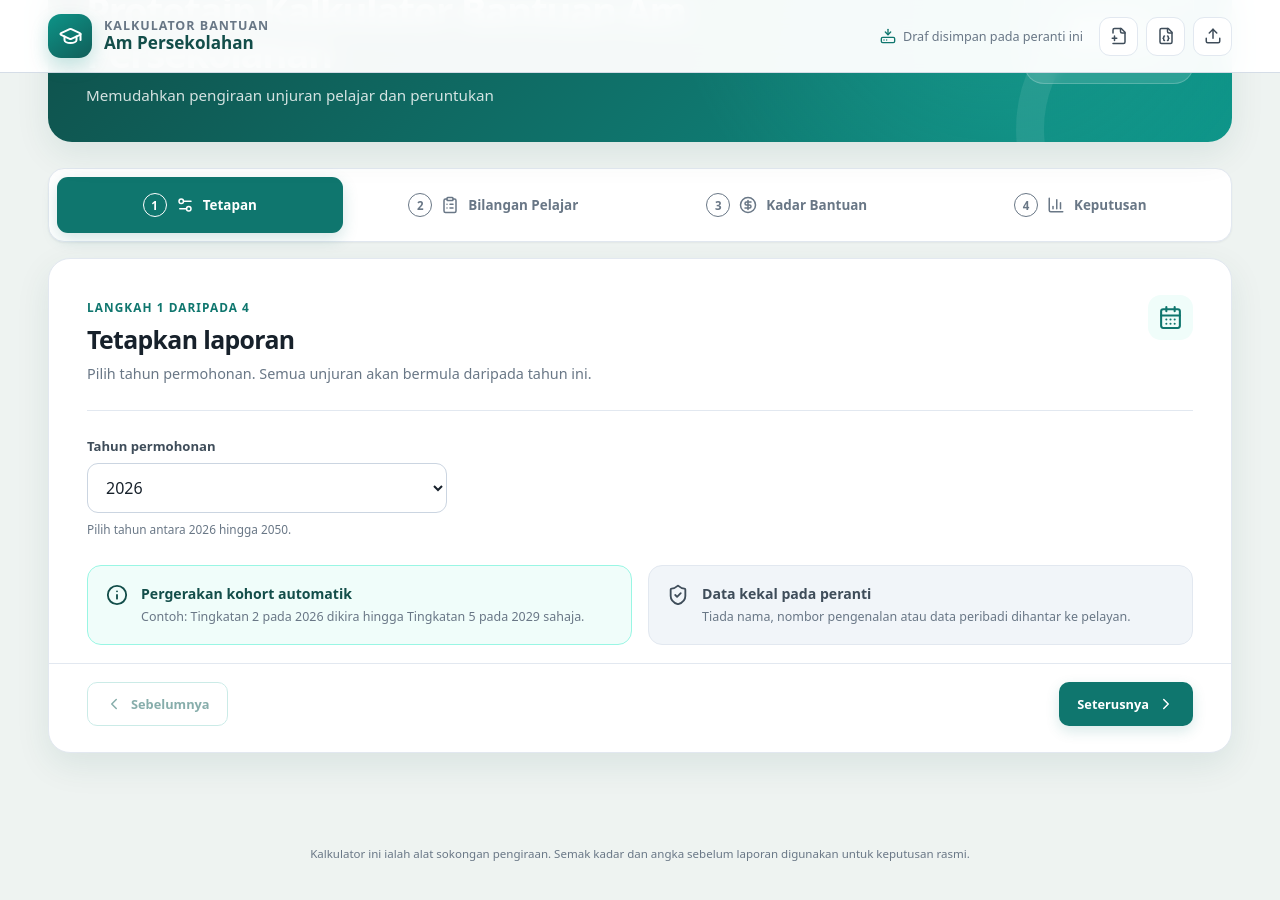
App › guides the user through the four calculator steps
(page scrolled)
Expected: the text "Memudahkan pengiraan unjuran pelajar dan peruntukan" is shown, [86,85,494,105]
Expected: the heading "Tetapkan laporan" is shown, [87,322,294,356]
Click the button "Seterusnya" at x=1126, y=704, box [1059,682,1193,726]
(page scrolled)
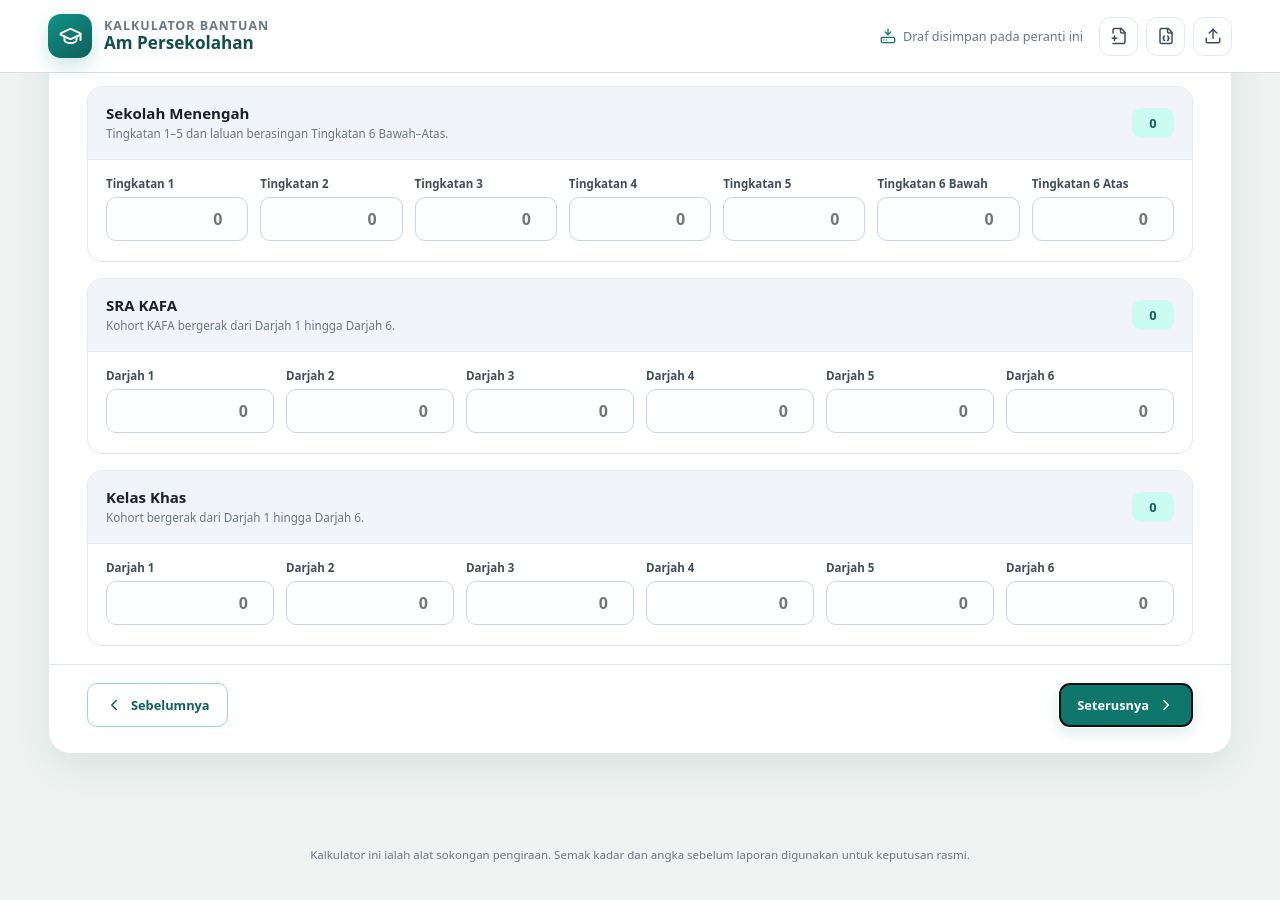
Click the button "Seterusnya" at x=1126, y=705, box [1059,683,1193,727]
(page scrolled)
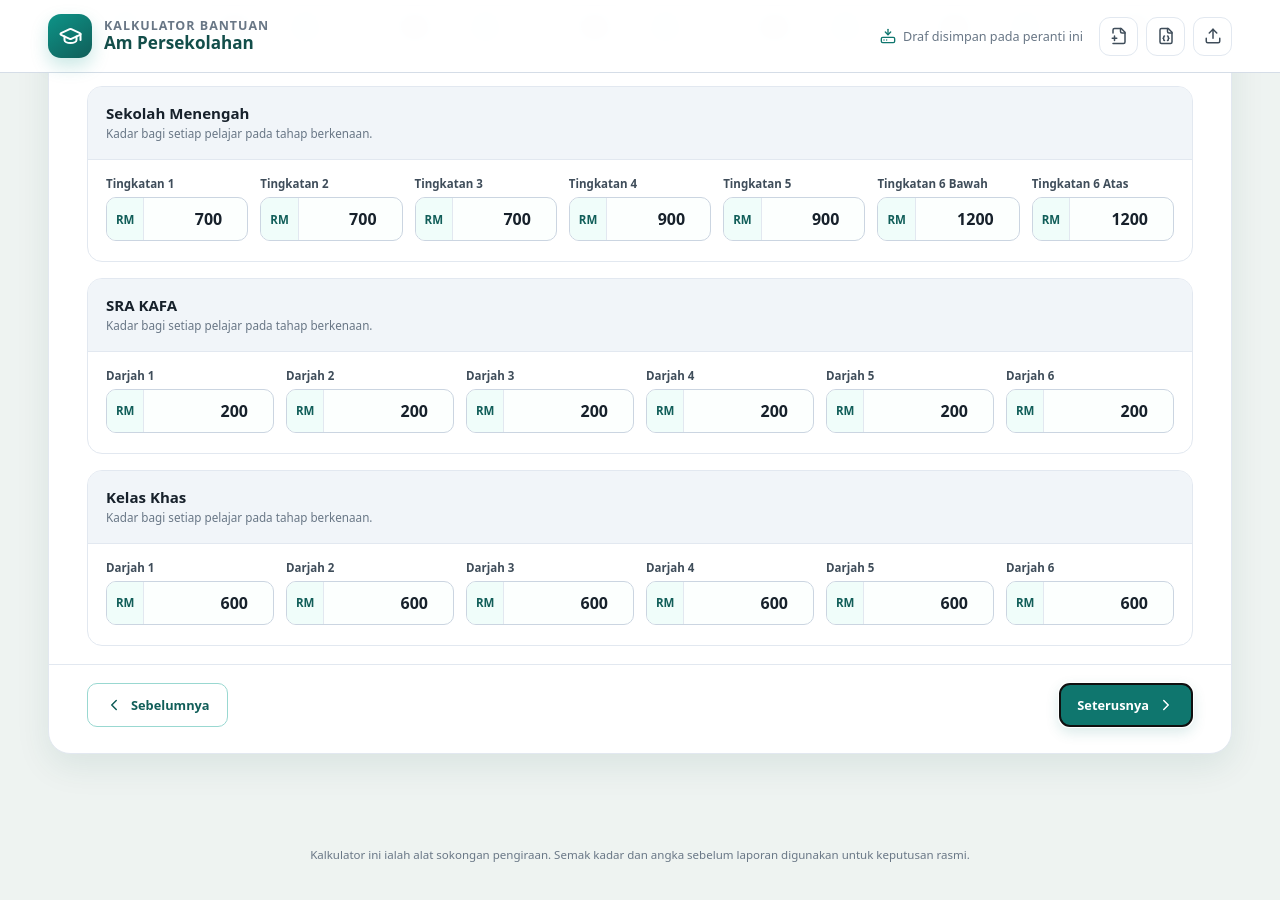
Click the button "Seterusnya" at x=1126, y=705, box [1059,683,1193,727]
(page scrolled)
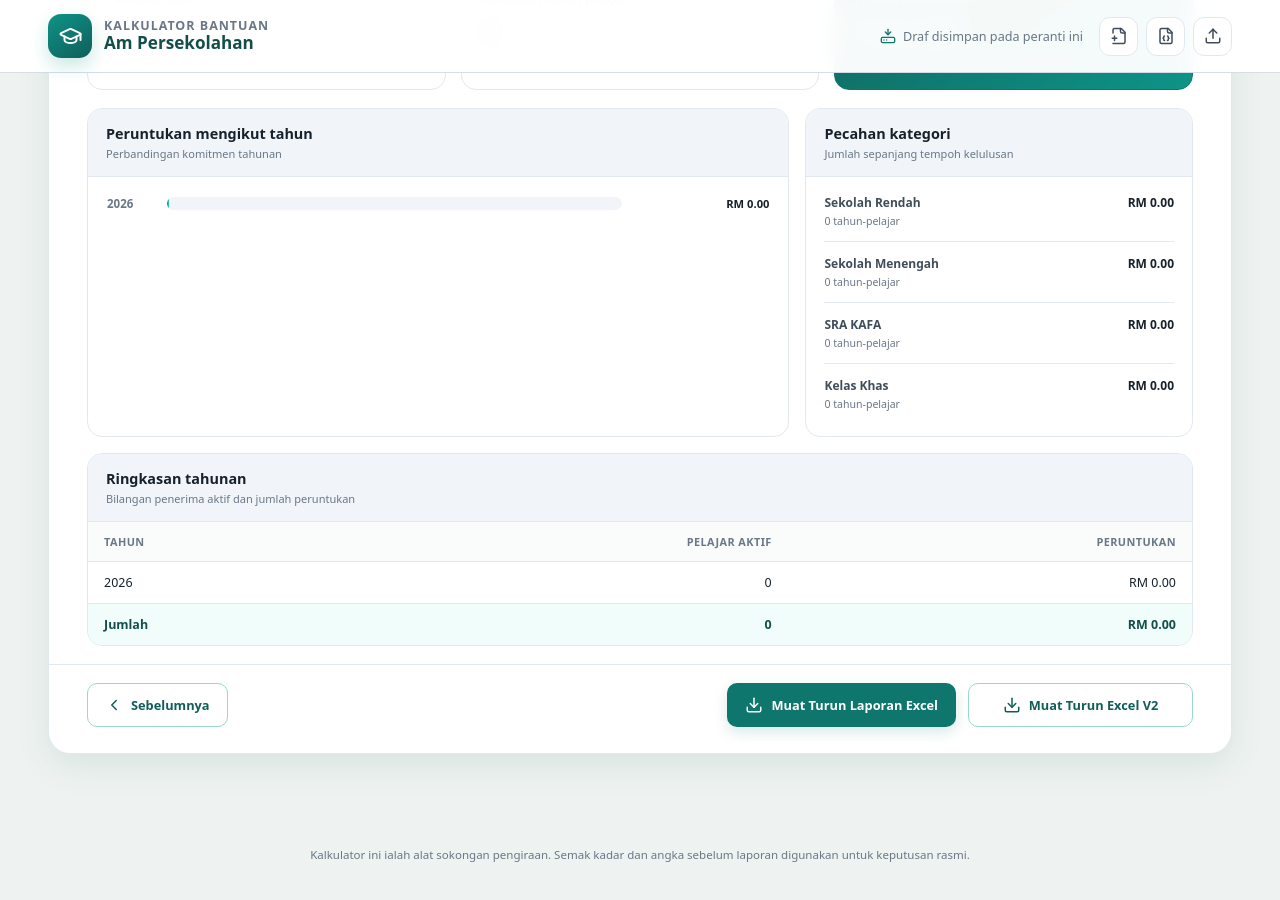
Now the button "Muat Turun Laporan Excel" is shown, box [727,683,956,727]
Now the button "Muat Turun Excel V2" is shown, box [968,683,1193,727]
